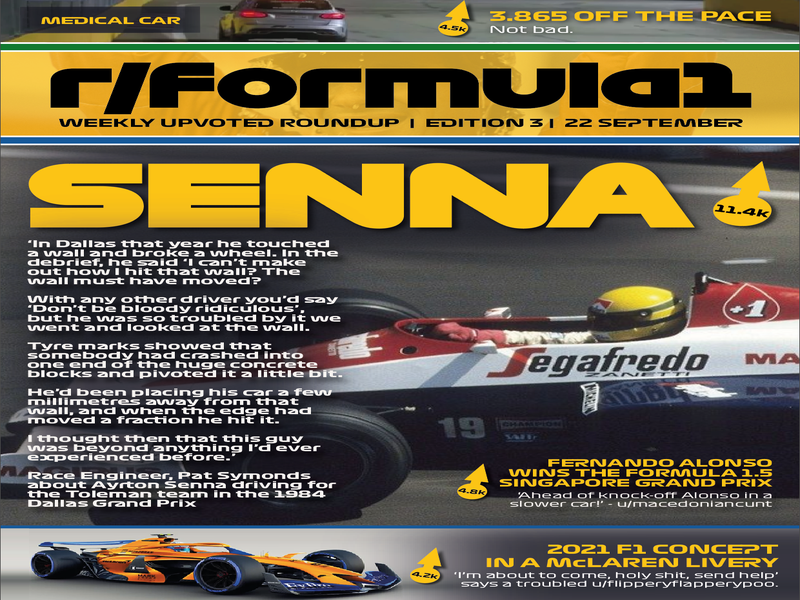f1: (31, 518, 421, 600)
